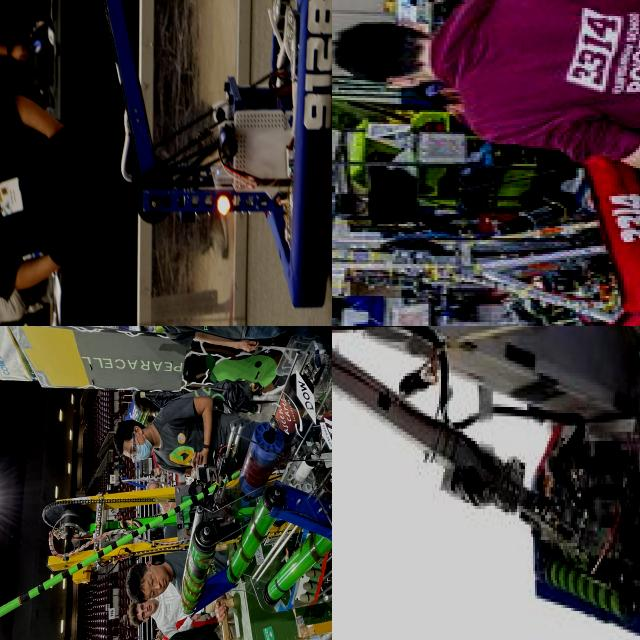FRC-Robots: (332, 326, 640, 640), (53, 0, 332, 315), (57, 326, 332, 640), (332, 143, 640, 326)
